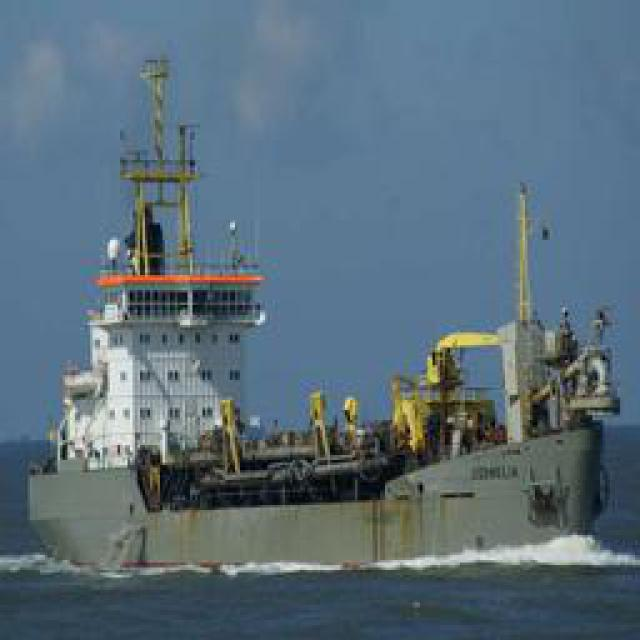Ship: (31, 35, 630, 588)
